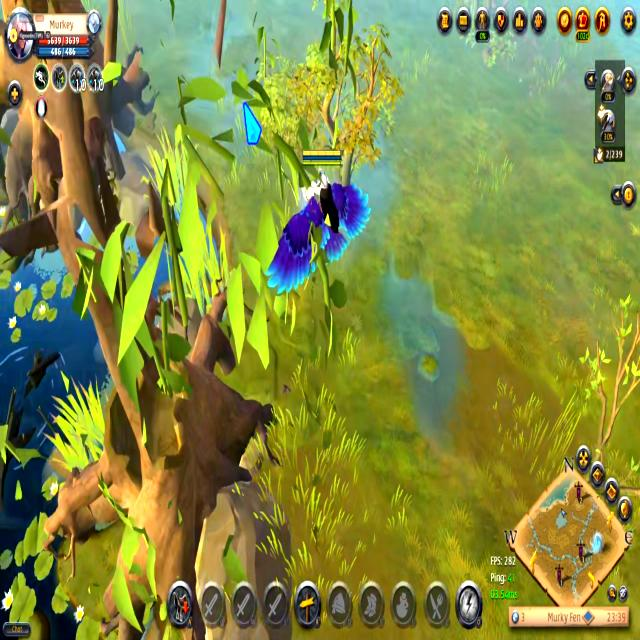red: (264, 146, 374, 296)
